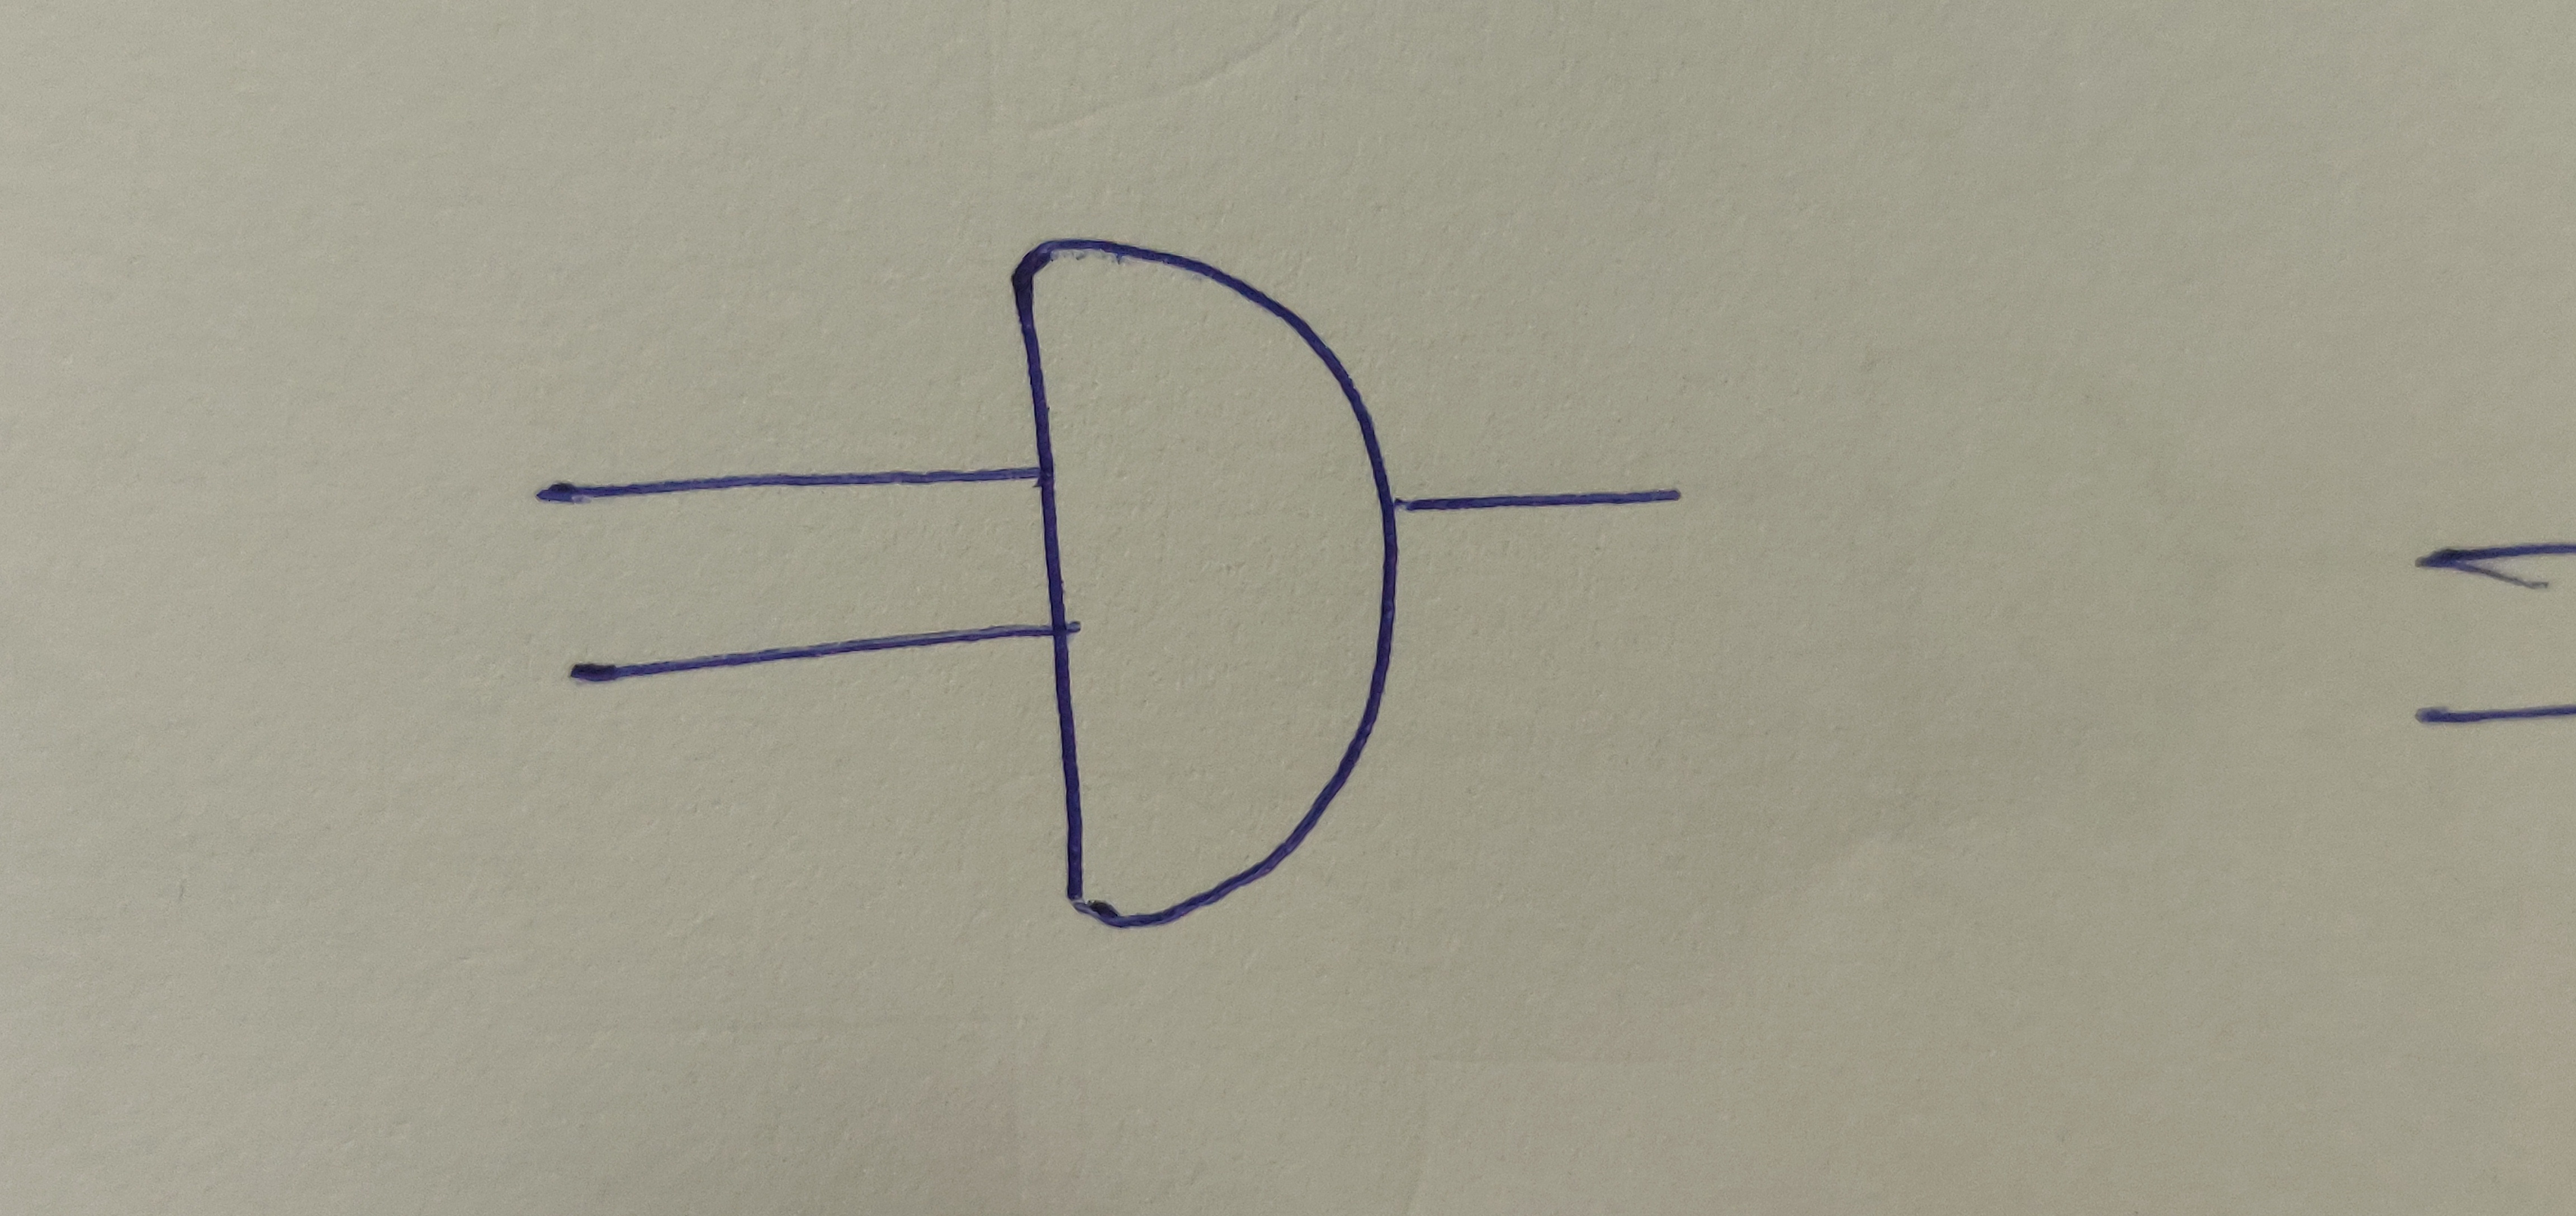and: (1005, 233, 1408, 935)
